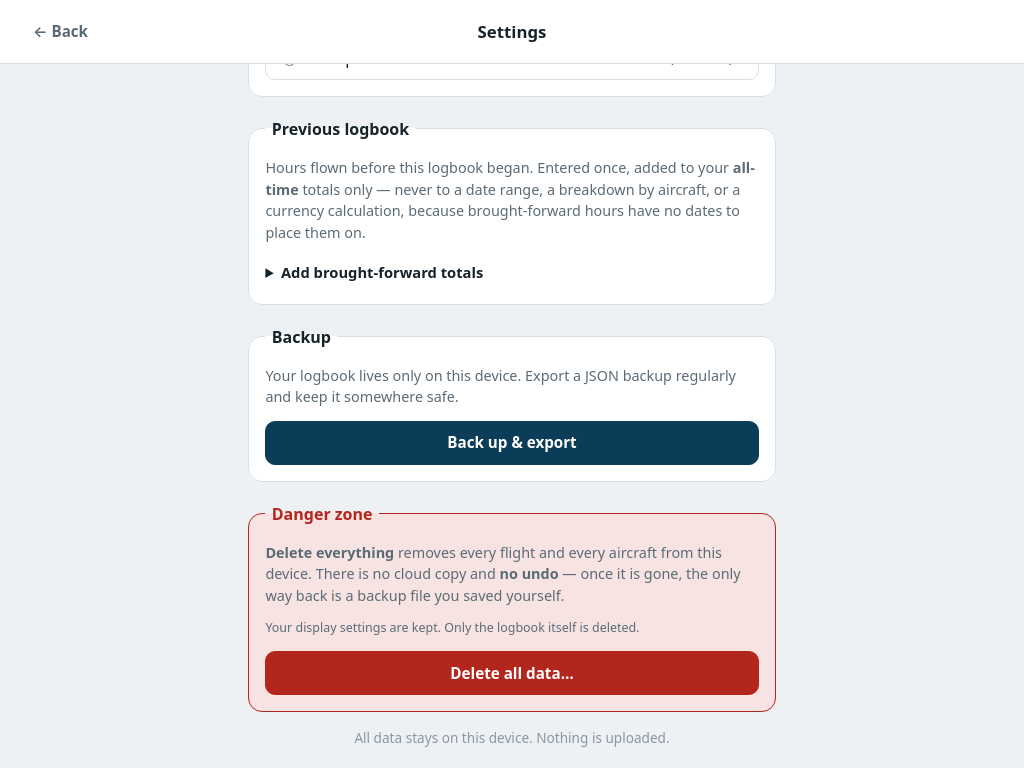
Test: nothing happens without confirmation › cancelling leaves everything exactly as it was
The image size is (1024, 768).
(page scrolled)
Click the button "Delete all data…" at x=512, y=673, box 265,651 -> 759,695
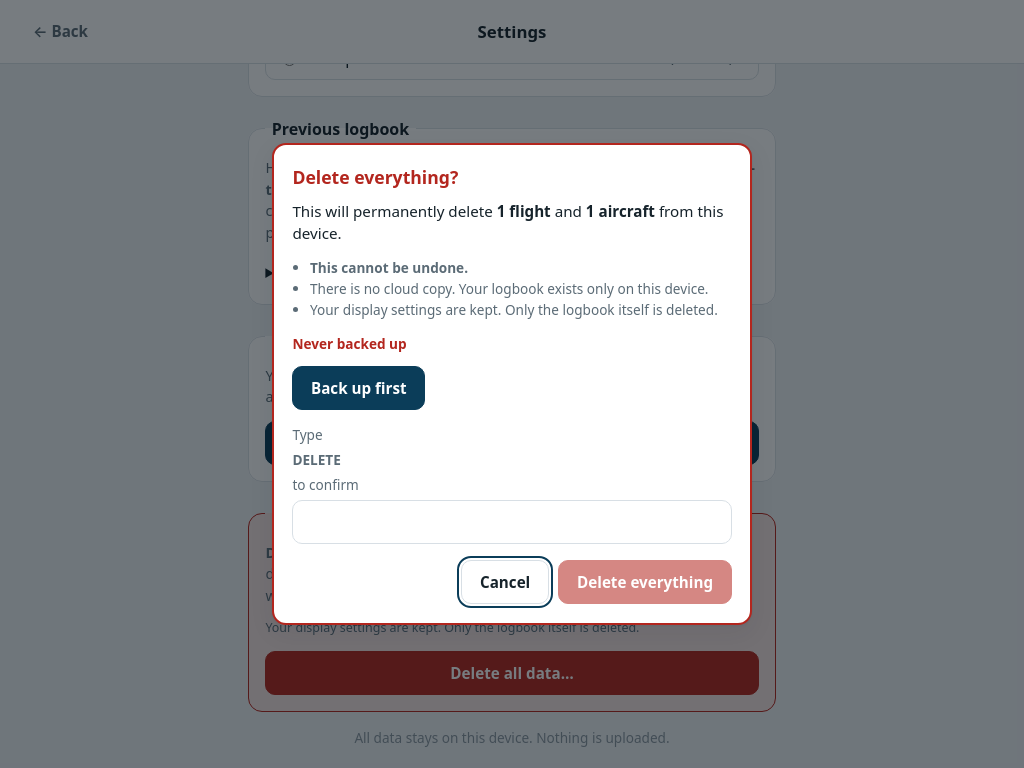
Click the button "Cancel" at x=505, y=582, box 461,560 -> 549,604
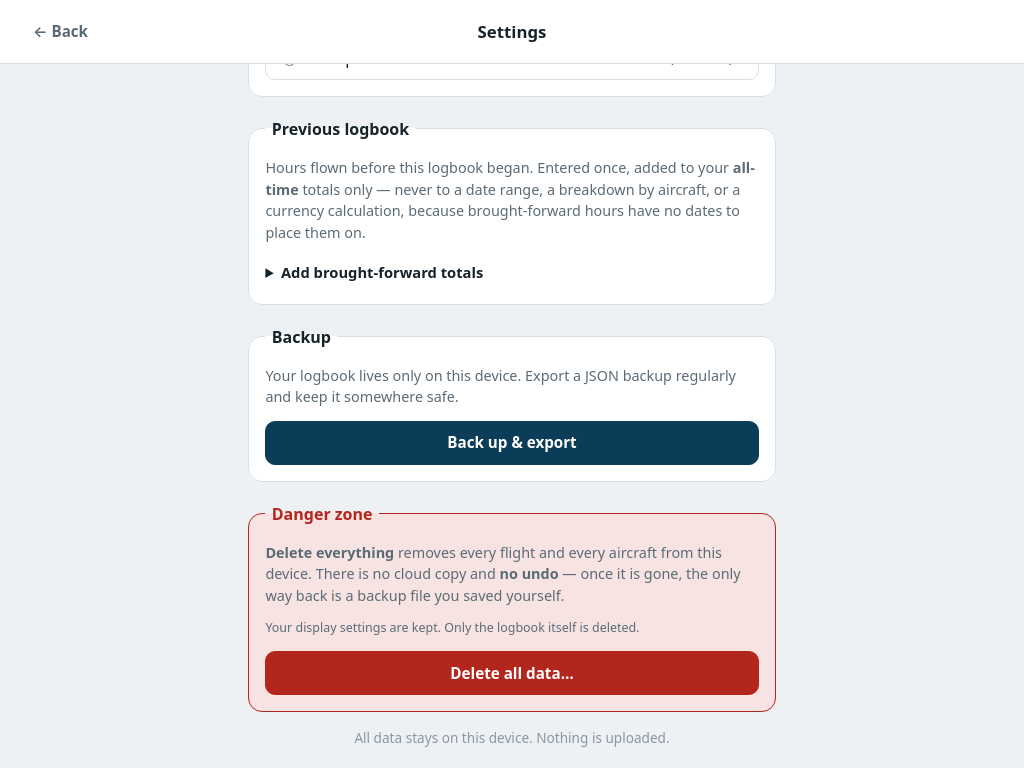
Expected: the label "Type DELETE" is gone
